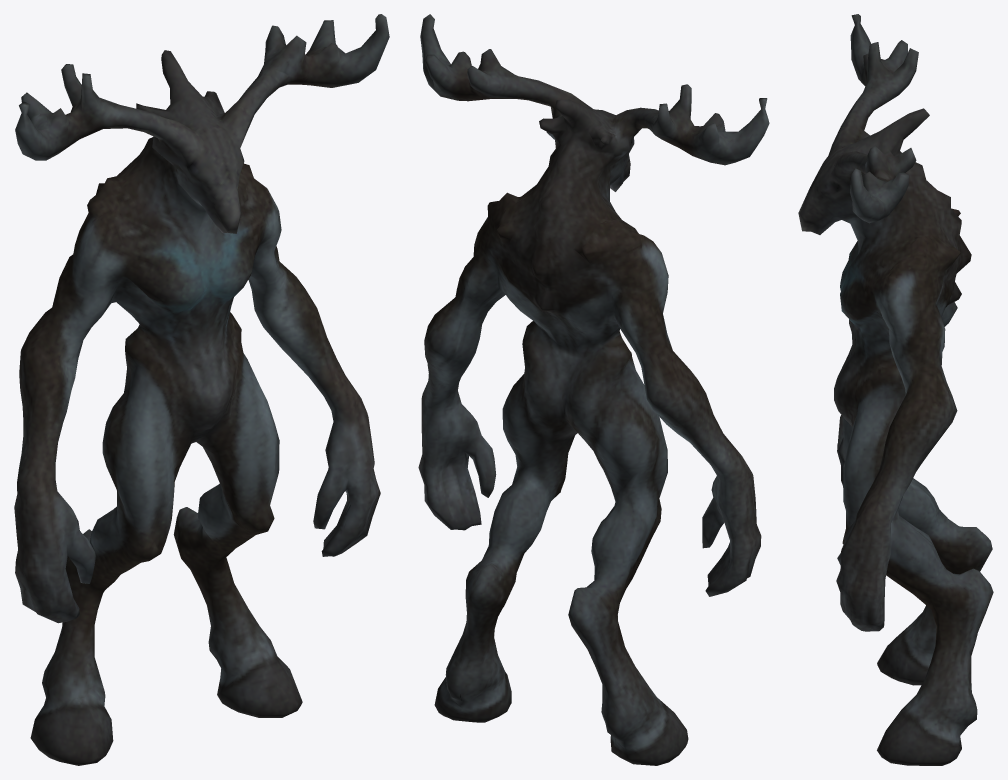
File: hoarfrost_spitter_v1.glb
3 views of the same model, side by side, from view 1: azimuth 30°, elevation 25°; view 2: azimuth 150°, elevation 25°; view 3: azimuth 270°, elevation 25° (orthographic). The views are drawn at different scales.
Parts seen in each view (by area): view 1: hoarfrost-spitter-m0q-4000; view 2: hoarfrost-spitter-m0q-4000; view 3: hoarfrost-spitter-m0q-4000.
Boxes of the visible parts, x1=… form: hoarfrost-spitter-m0q-4000: x1=14, y1=14, x2=389, y2=765; hoarfrost-spitter-m0q-4000: x1=418, y1=14, x2=769, y2=765; hoarfrost-spitter-m0q-4000: x1=798, y1=14, x2=993, y2=765.
Bounding box in the file's own units: 0.5376 × 0.963 × 0.2725.
Materials: 1 (1 with a texture image).
